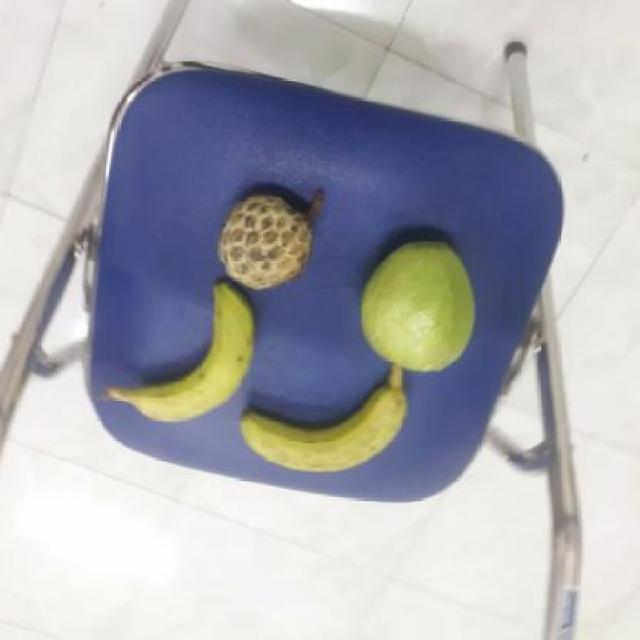banana: (126, 286, 262, 422)
guava: (362, 236, 484, 373)
sugar apple: (219, 189, 326, 289)
